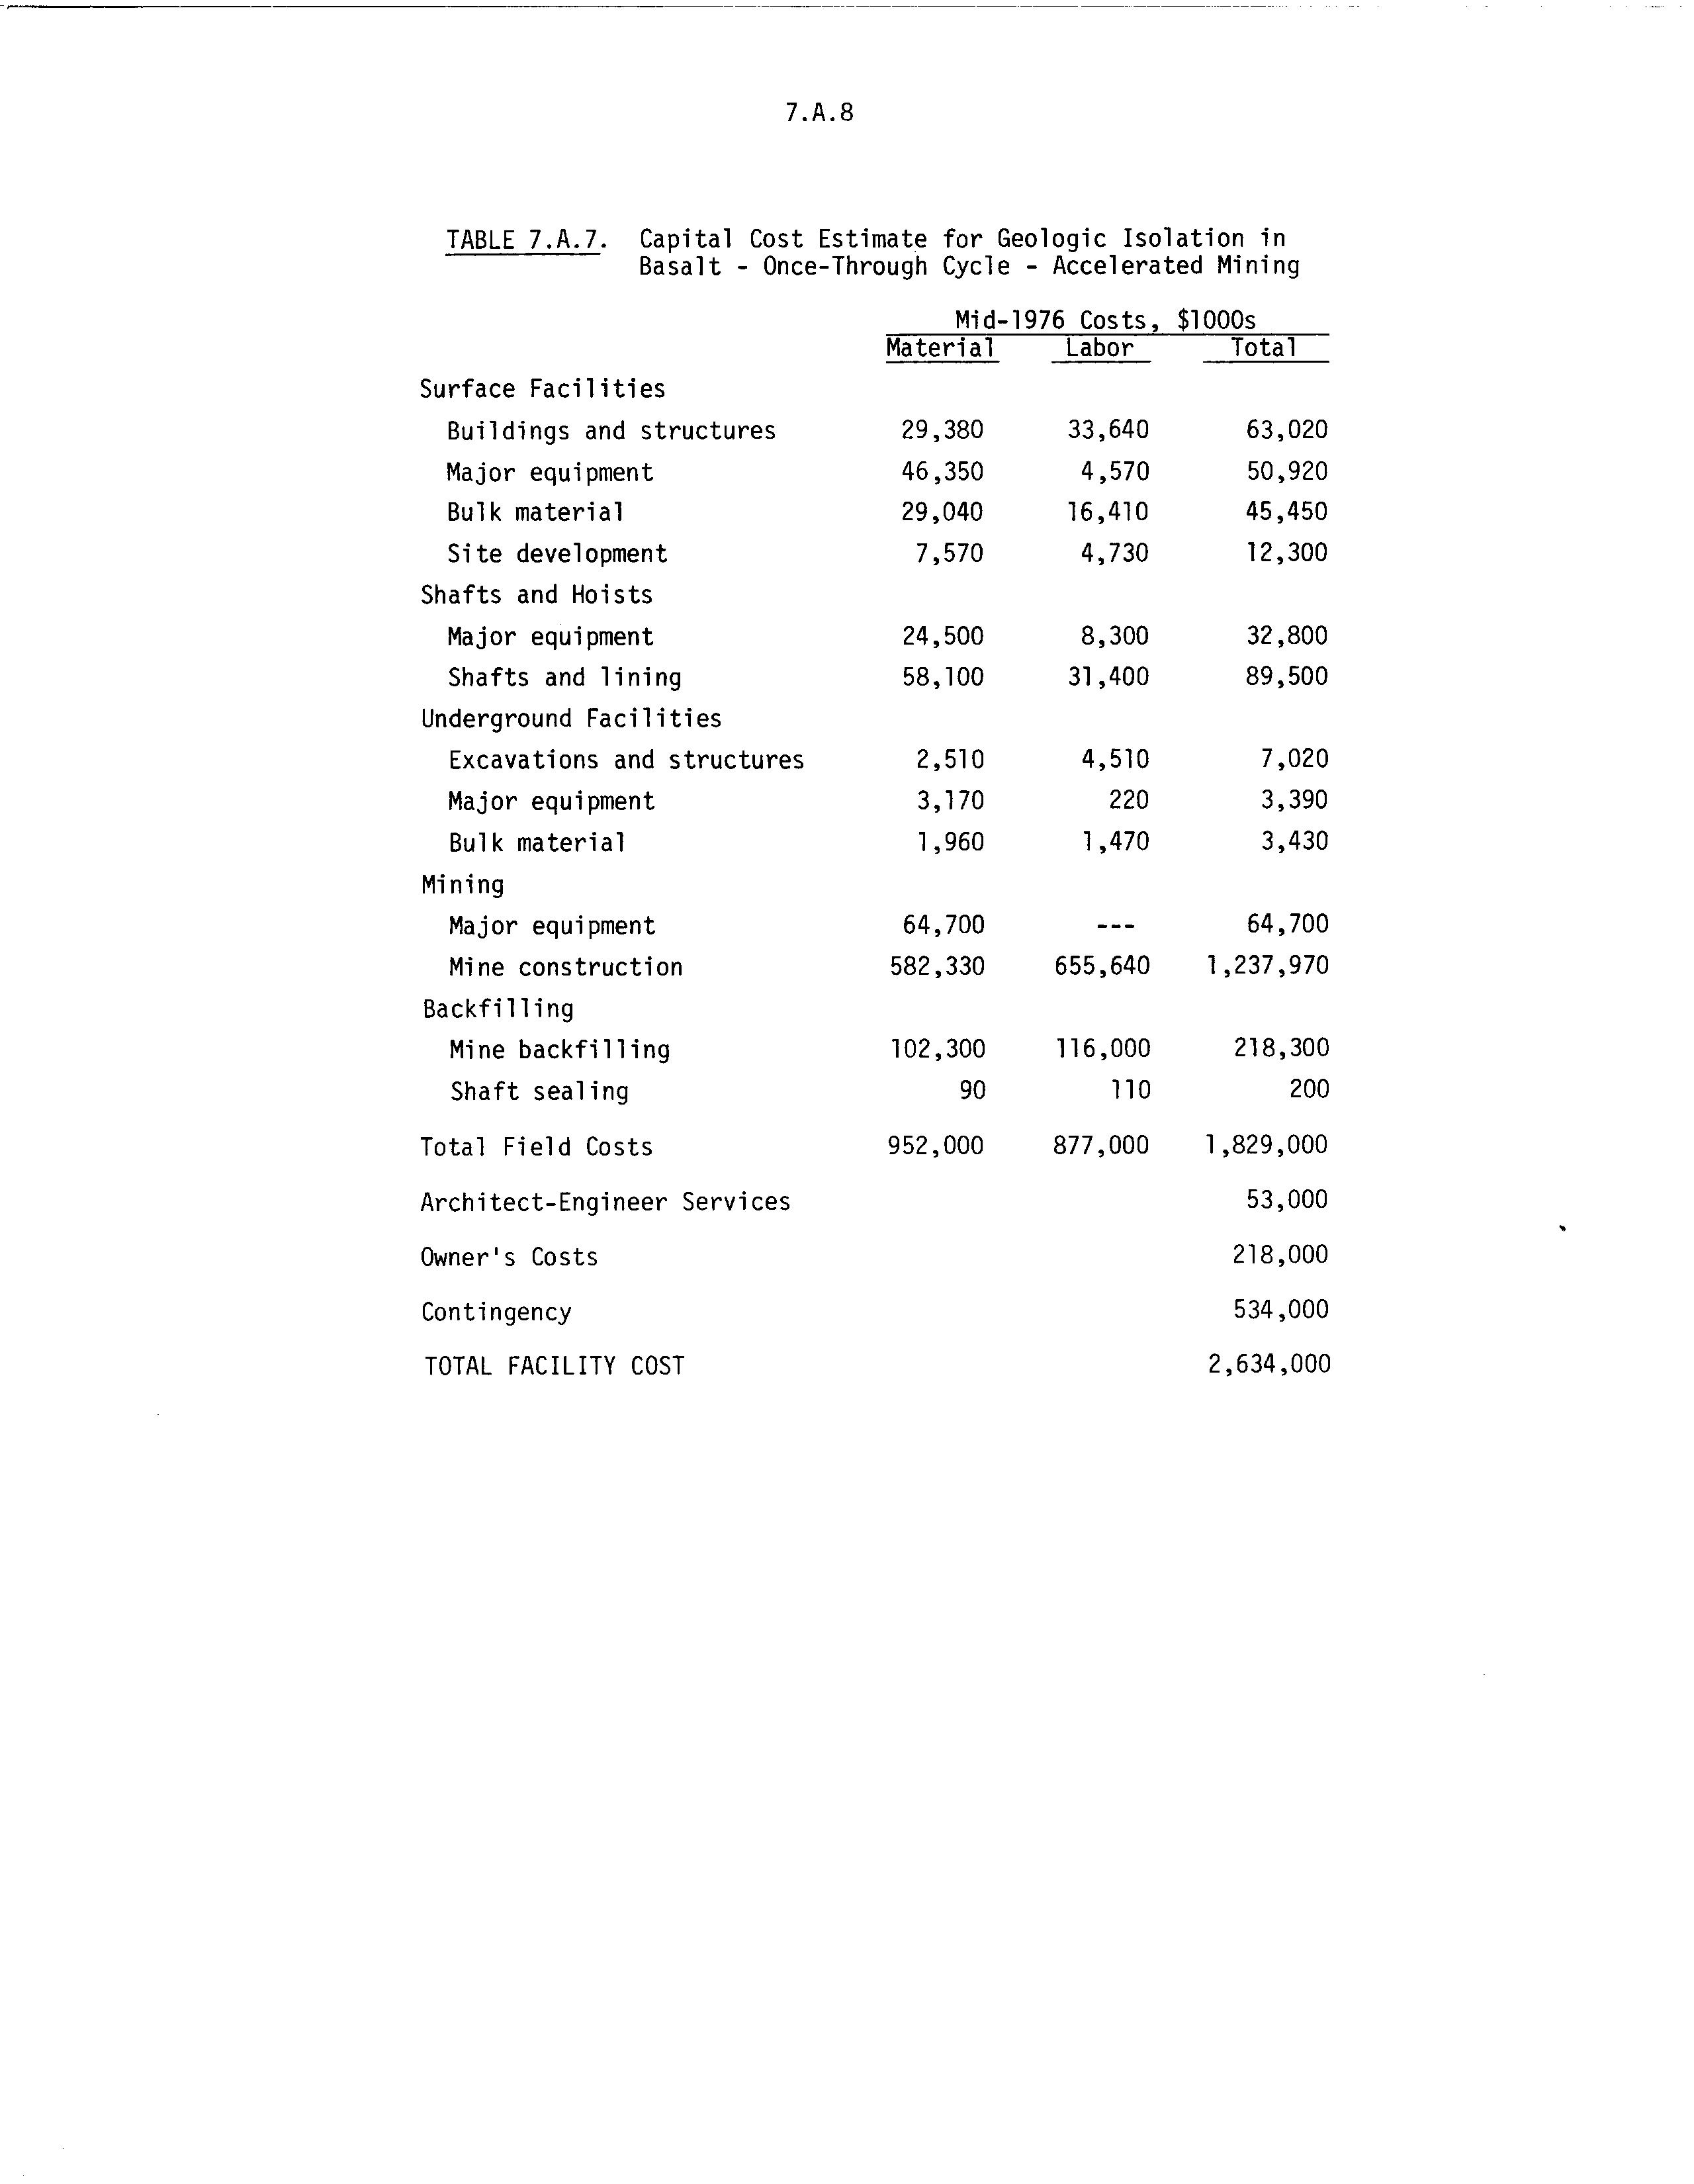boardless: (400, 213, 1356, 1383)
